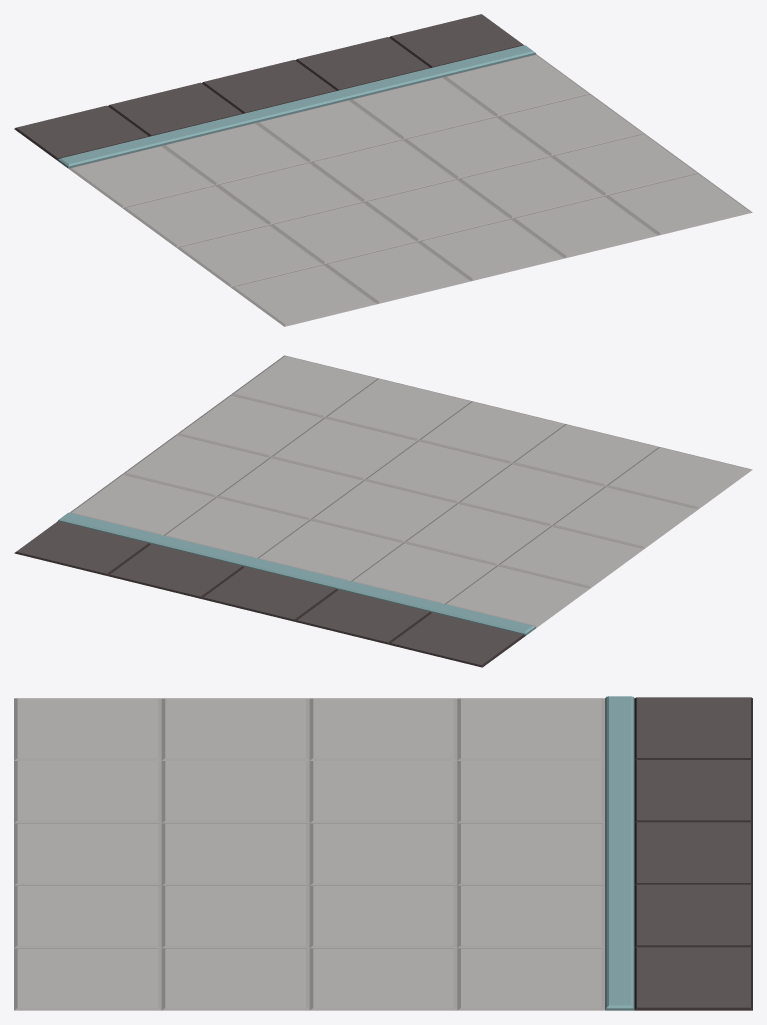
Rendered from OpenRoad_0.glb.
3 renders of one model, top to bottom at view 1: azimuth 30°, elevation 25°; view 2: azimuth 150°, elevation 25°; view 3: azimuth 270°, elevation 25°, orthographic. The views are drawn at different scales.
Parts seen in each view (by area): view 1: OpenRoad_0; view 2: OpenRoad_0; view 3: OpenRoad_0.
Part boxes in pixels (x1,y1,x2,y2): OpenRoad_0: (14,14,752,326); OpenRoad_0: (14,355,752,667); OpenRoad_0: (14,696,752,1010).
Size of the model in its own units: 16 by 0.0884 by 16.
Materials: 1 (1 with a texture image).
